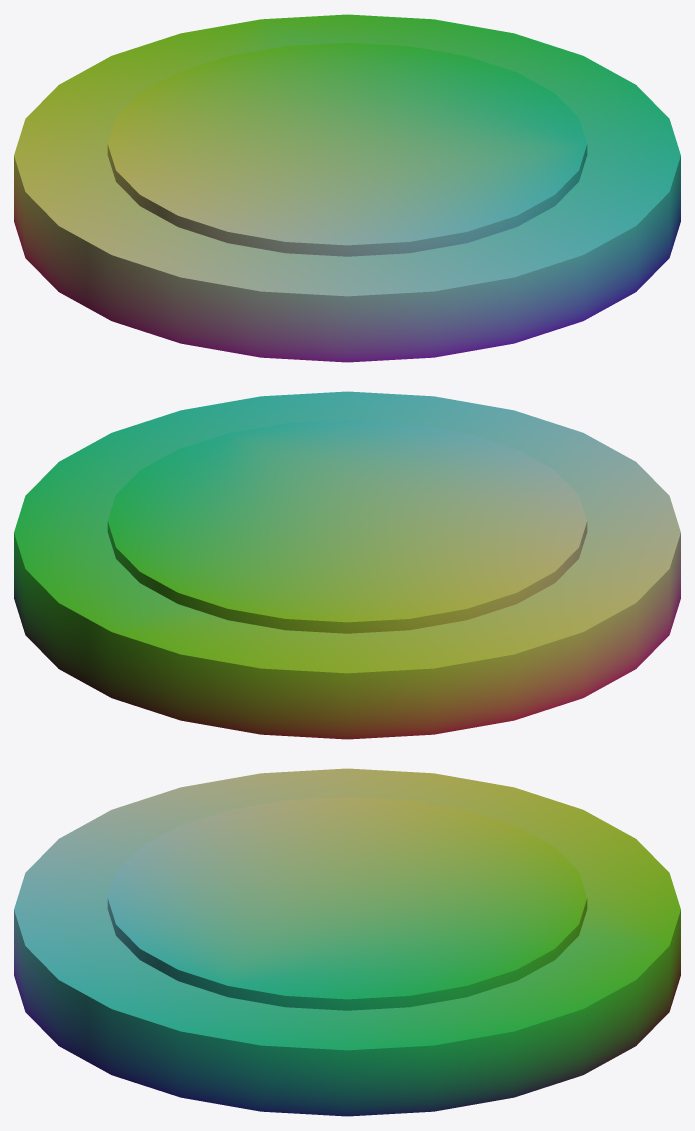
The model's file is coin.fbx.
The picture shows the model from 3 angles, top to bottom: view 1: azimuth 30°, elevation 25°; view 2: azimuth 150°, elevation 25°; view 3: azimuth 270°, elevation 25°; orthographic projection.
Visible parts, largest first — view 1: coin; view 2: coin; view 3: coin.
Part boxes in pixels (x1,y1,x2,y2): coin: (14,14,680,362); coin: (14,391,680,739); coin: (14,768,680,1116).
Bounding box in the file's own units: 0.32 × 0.047 × 0.32.
